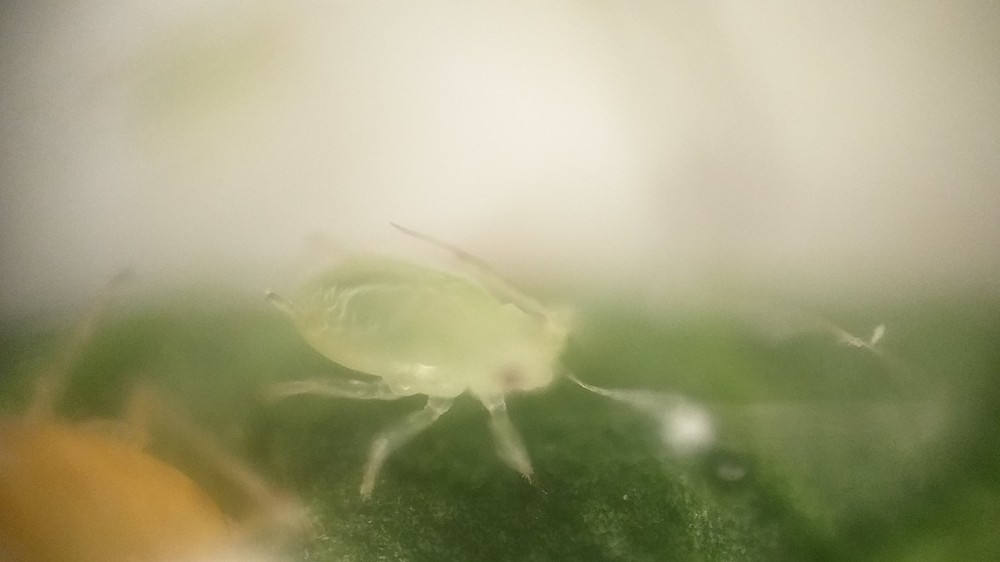Pulgon: (260, 207, 625, 509)
